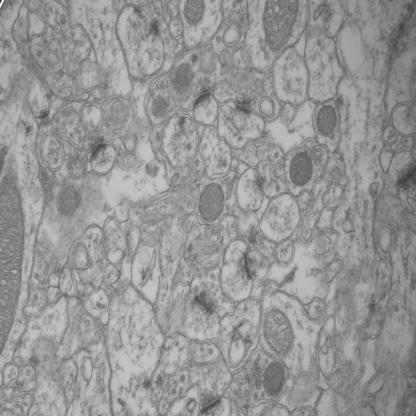mitochondria: (0, 171, 26, 361), (263, 0, 300, 49), (263, 308, 294, 355), (198, 182, 225, 224), (263, 360, 286, 397), (289, 152, 313, 187), (172, 60, 195, 96), (56, 186, 82, 214), (316, 105, 337, 138), (183, 0, 205, 25), (152, 93, 169, 120)
